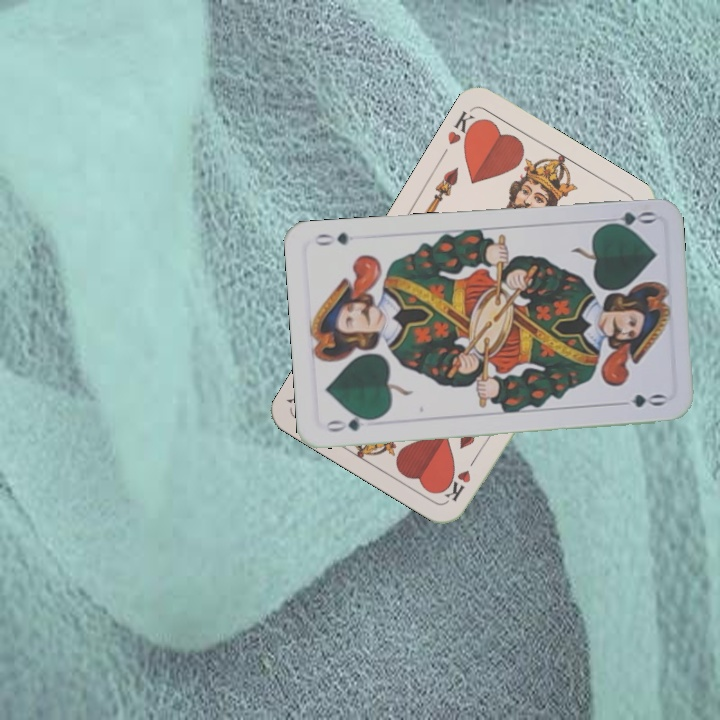GO: (598, 207, 657, 233), (322, 411, 380, 435)
HK: (441, 449, 482, 505), (443, 106, 484, 150)
